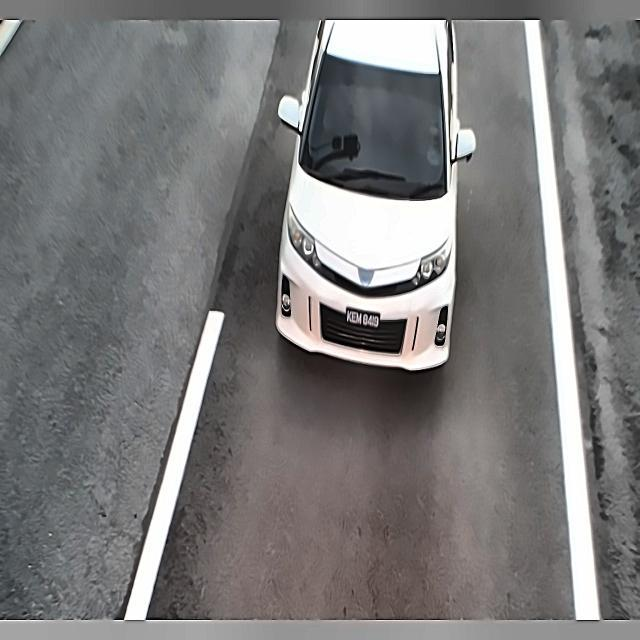car: (340, 299, 387, 333)
